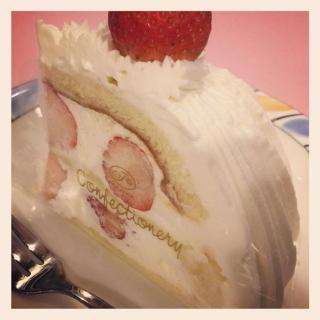Strawberry: (101, 9, 221, 56)
